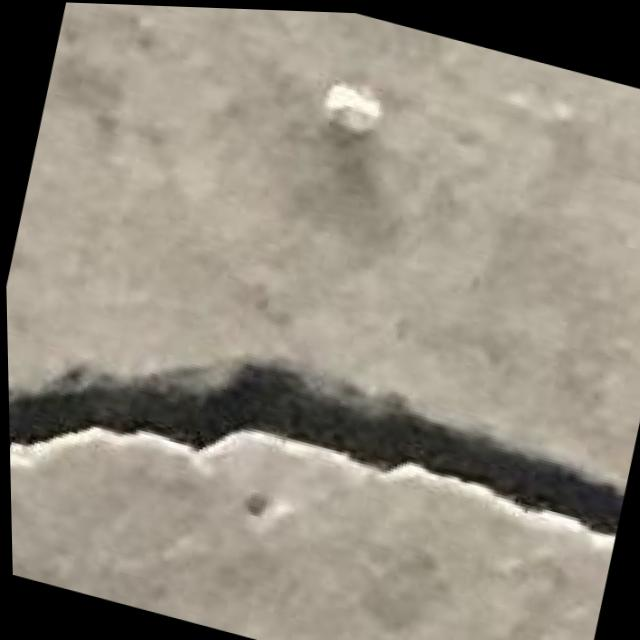Crack: (5, 287, 631, 630)
